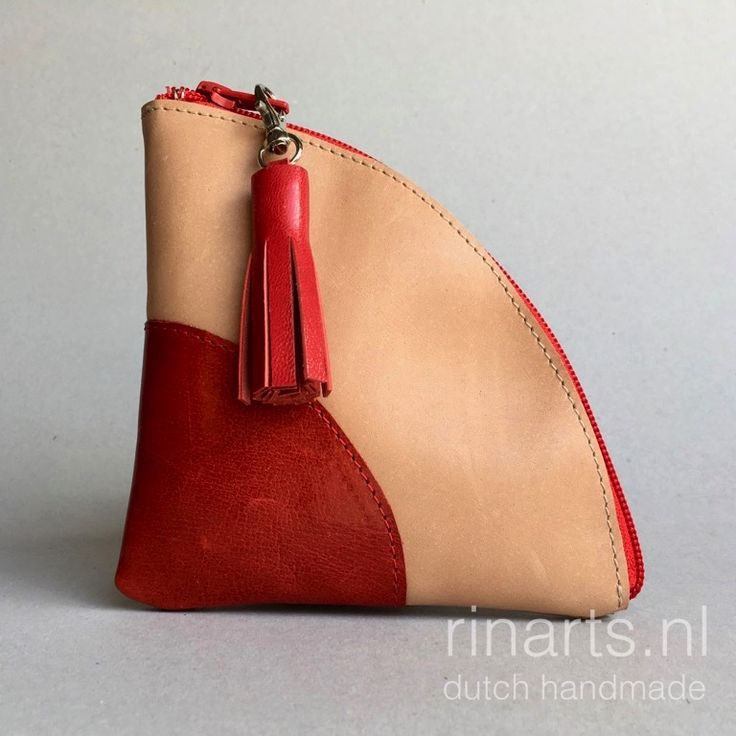cuero: (109, 82, 645, 619)
